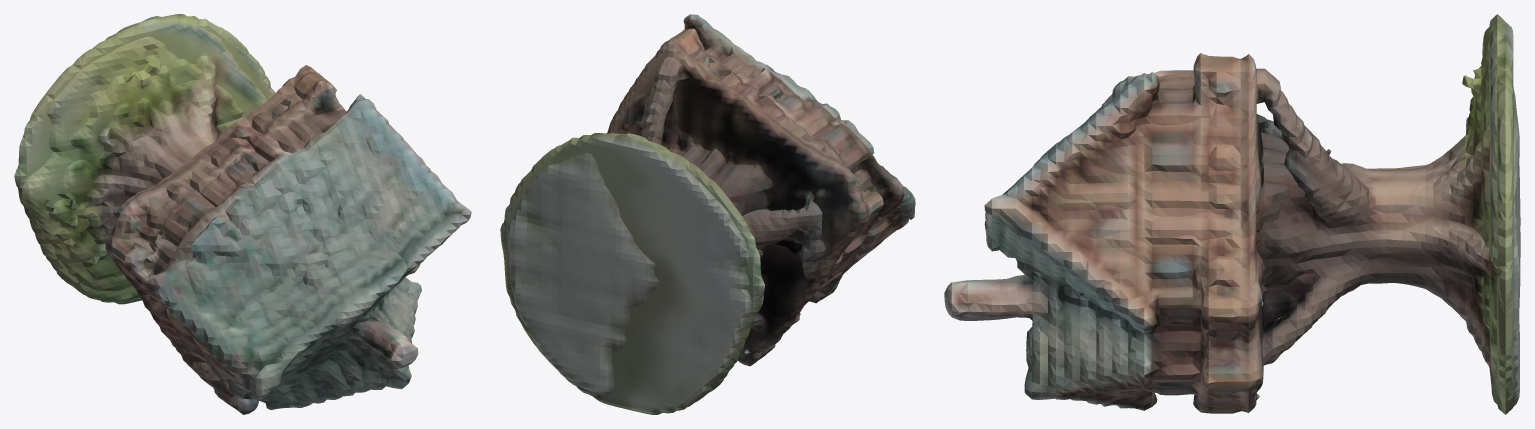
3 views of the same model, side by side, from view 1: azimuth 30°, elevation 25°; view 2: azimuth 150°, elevation 25°; view 3: azimuth 270°, elevation 25° (orthographic). The views are drawn at different scales.
Visible parts, largest first — view 1: world; view 2: world; view 3: world.
Boxes of the visible parts, box(x1,y1,x2,y2) form: world: box(14, 14, 471, 414); world: box(500, 14, 915, 414); world: box(944, 14, 1520, 414).
Bounding box in the file's own units: 0.764 × 0.7622 × 0.9838.
